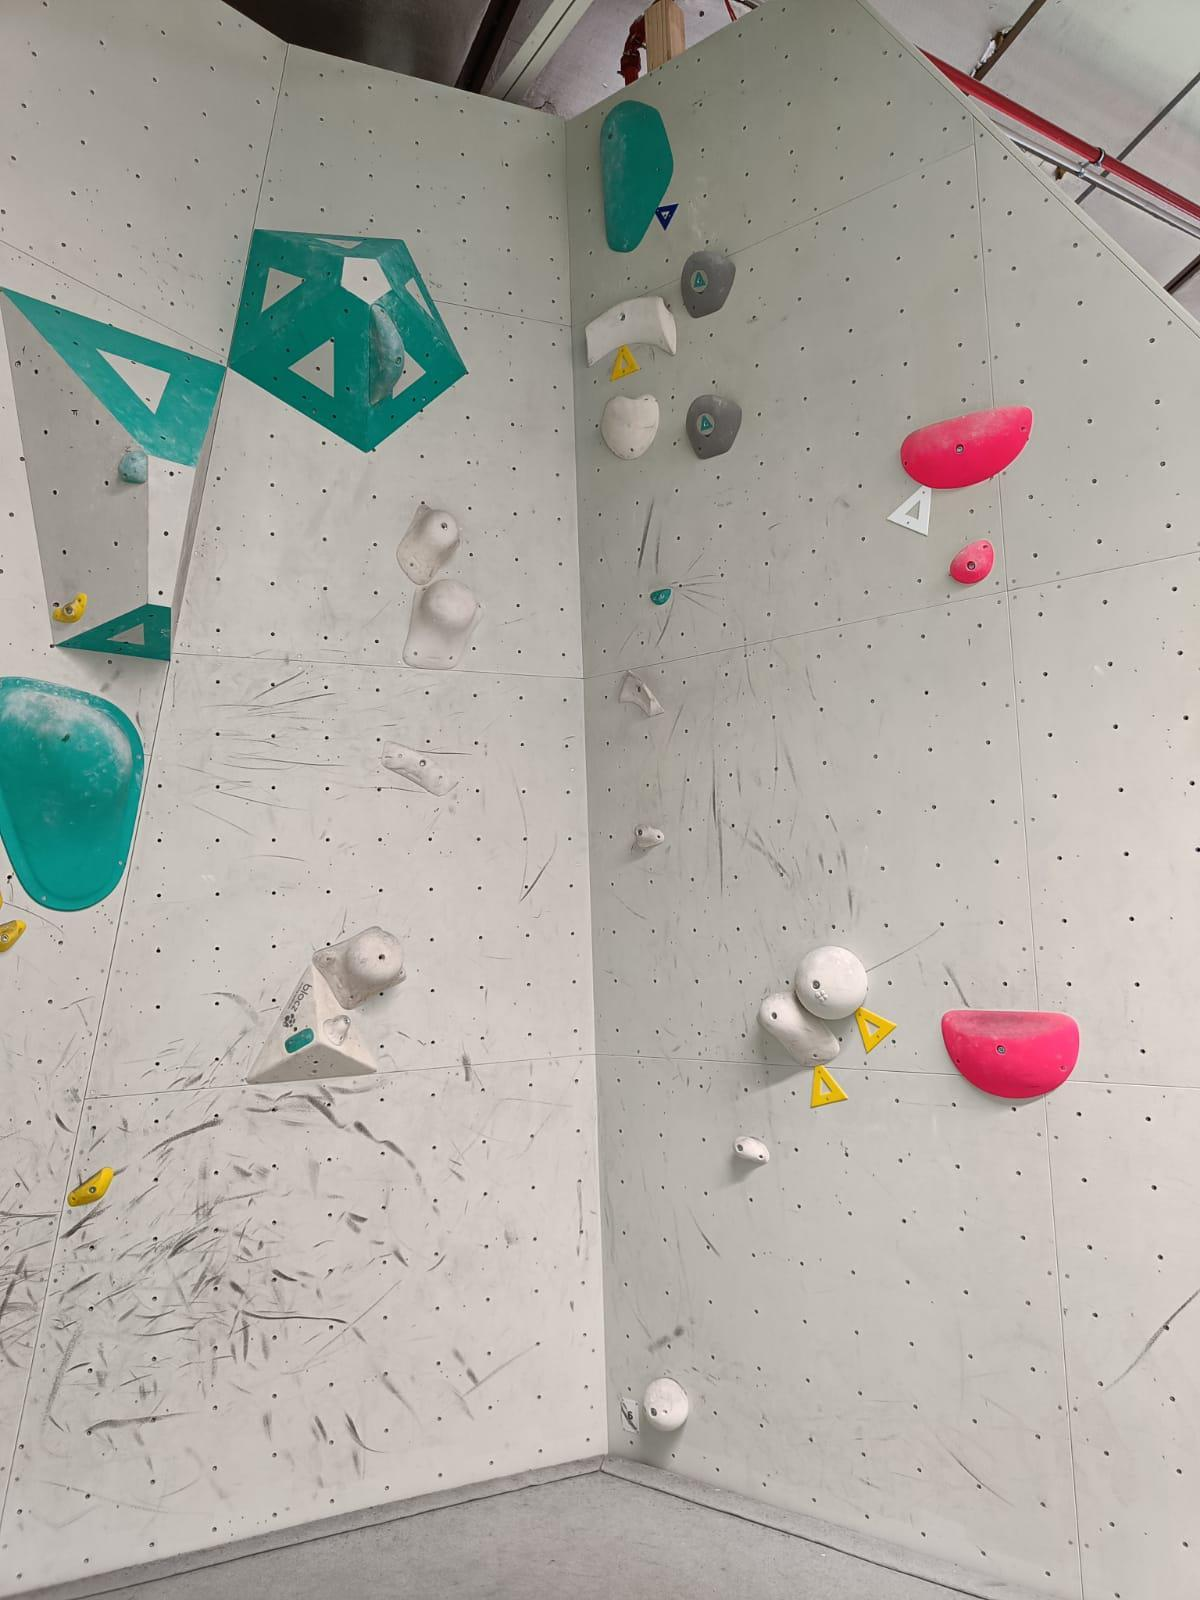hold: (0, 675, 144, 911), (940, 1009, 1079, 1099), (600, 100, 673, 253), (900, 406, 1032, 489), (311, 925, 407, 1009), (402, 577, 485, 670), (585, 296, 677, 367), (758, 991, 841, 1067), (794, 945, 868, 1022), (397, 503, 460, 585), (382, 741, 460, 796), (600, 393, 659, 460), (681, 249, 736, 319), (686, 393, 742, 460), (369, 302, 405, 406), (642, 1377, 689, 1432), (618, 669, 666, 718), (949, 539, 993, 585), (67, 1167, 113, 1207), (52, 592, 88, 624), (732, 1135, 770, 1165), (118, 451, 149, 485), (323, 1014, 352, 1046), (0, 920, 28, 952), (633, 823, 666, 848), (285, 1028, 314, 1053), (649, 588, 672, 605), (0, 889, 4, 911)
volume: (0, 286, 227, 660), (227, 228, 468, 452), (246, 964, 378, 1085)
